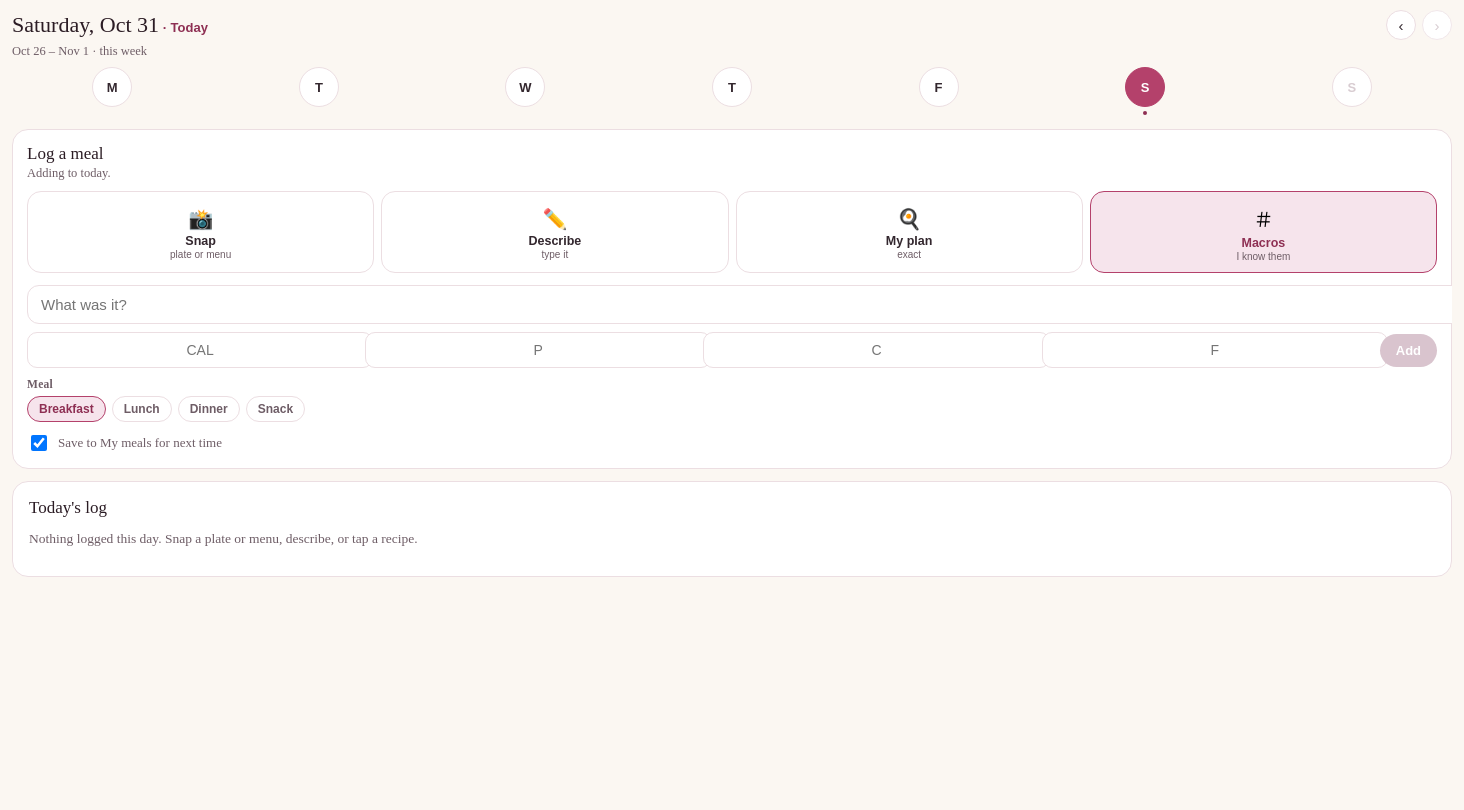
Test: MealLogCard I know the Macros › keeps the form and shows an error when save fails
Type "Chocolate rice crackers" into the field with placeholder "What was it?" at (740, 304), box [27,285,1452,324]
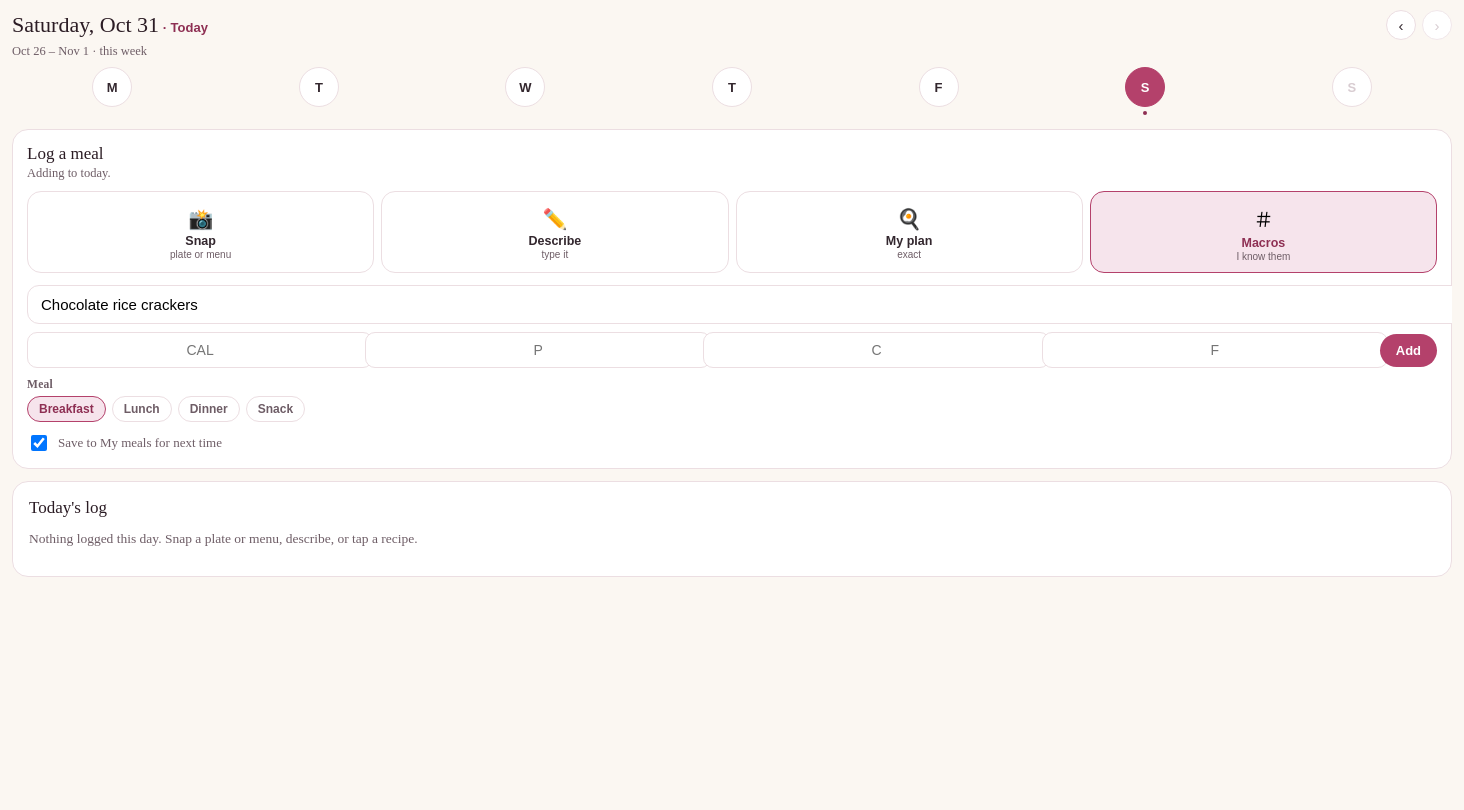
Click the button "Add" at (1408, 350), box [1380,334,1437,366]
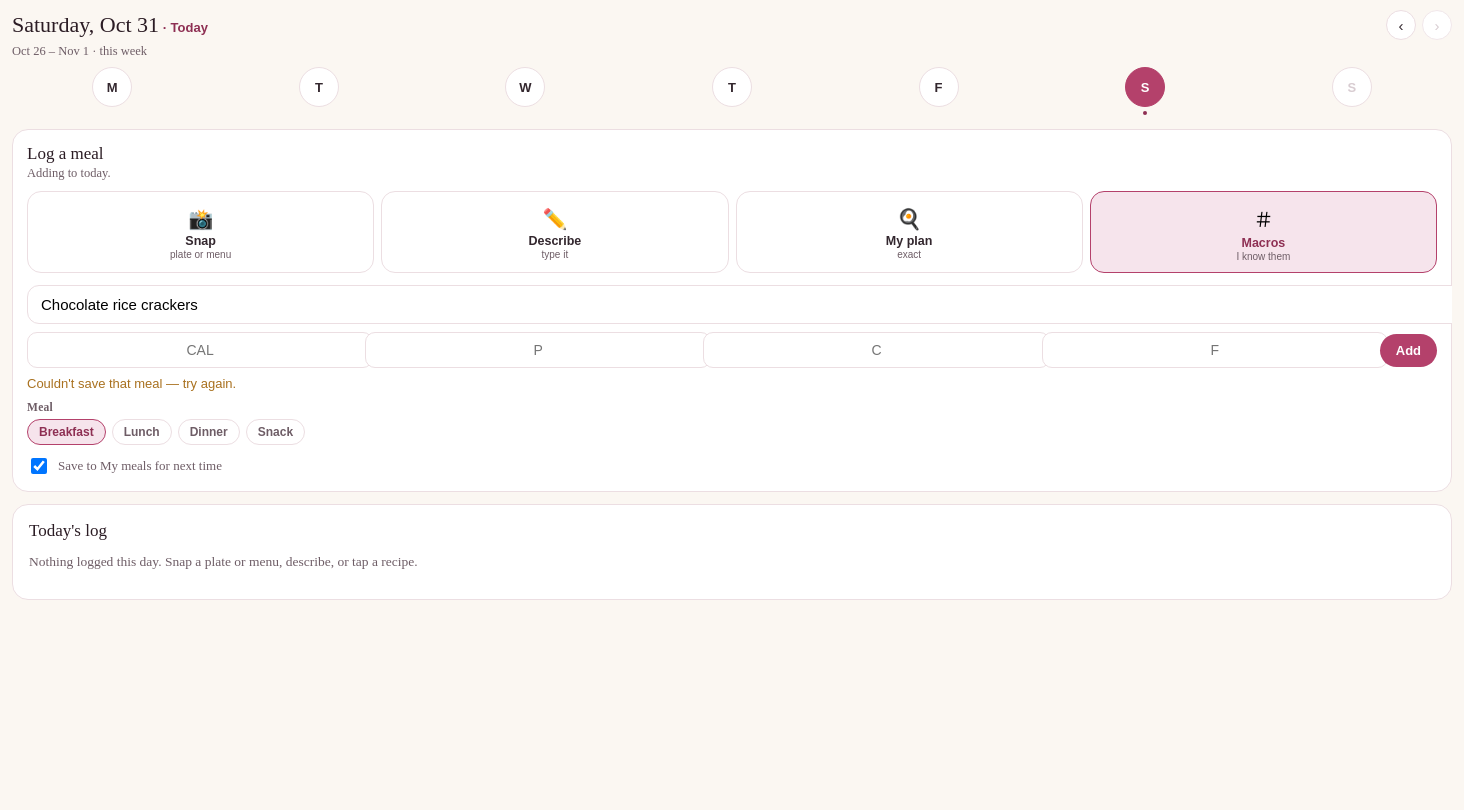
expect the button "Add" is enabled: met, box [1380,334,1437,366]
expect the text "Couldn't save that meal — try again." is shown: met, box [27,376,236,391]
